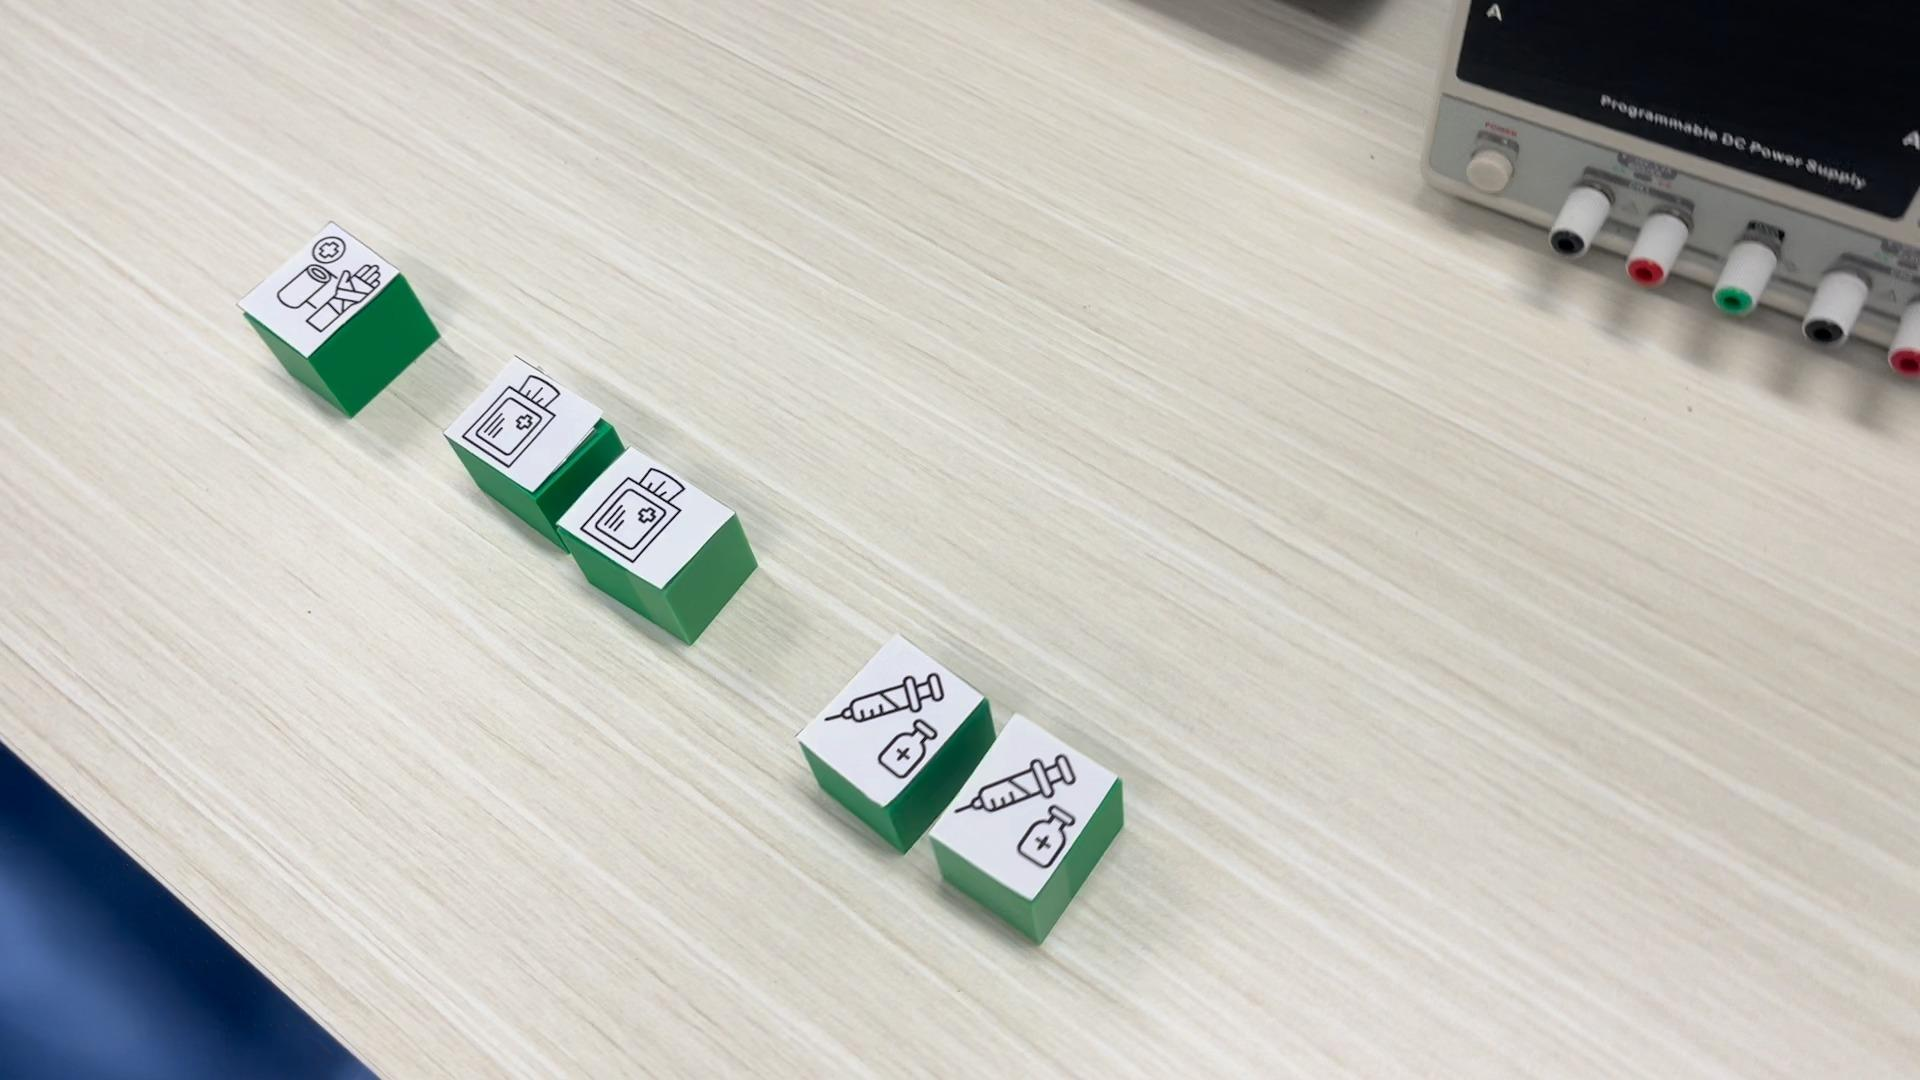Bandages: (235, 220, 440, 417)
Gauze: (562, 447, 757, 646), (434, 353, 624, 527)
antiseptic cream: (932, 712, 1122, 943), (793, 633, 986, 856)
